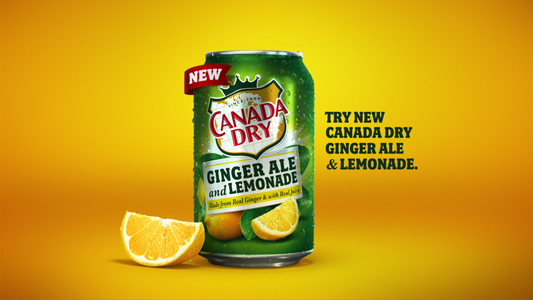Lata: (188, 44, 318, 271)
